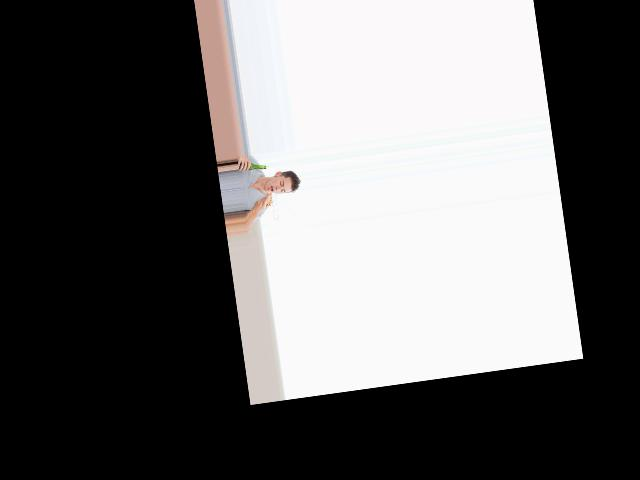beer: (236, 157, 266, 172)
